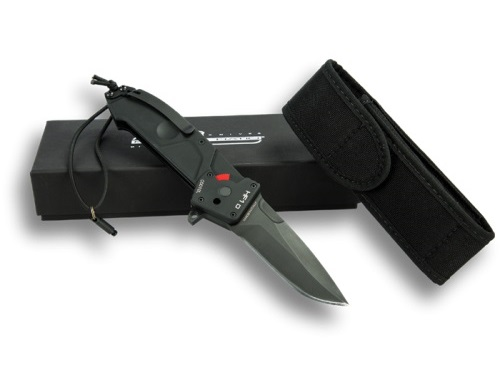knife: (218, 187, 356, 308)
